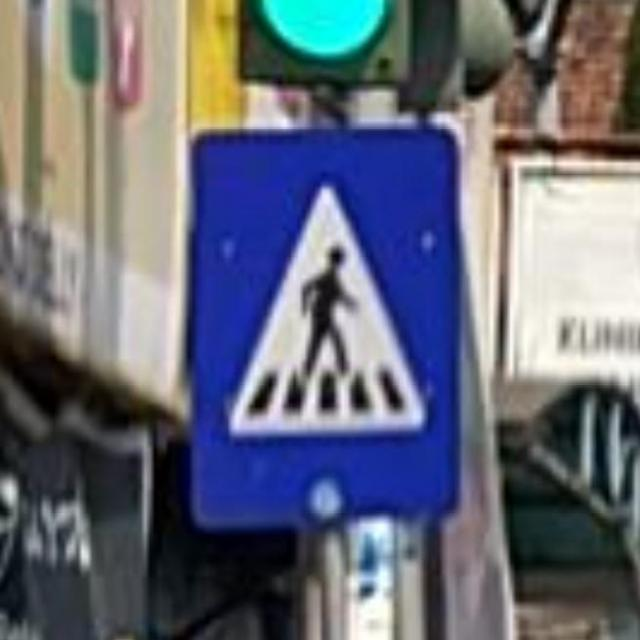ped_crossing: (194, 134, 464, 527)
